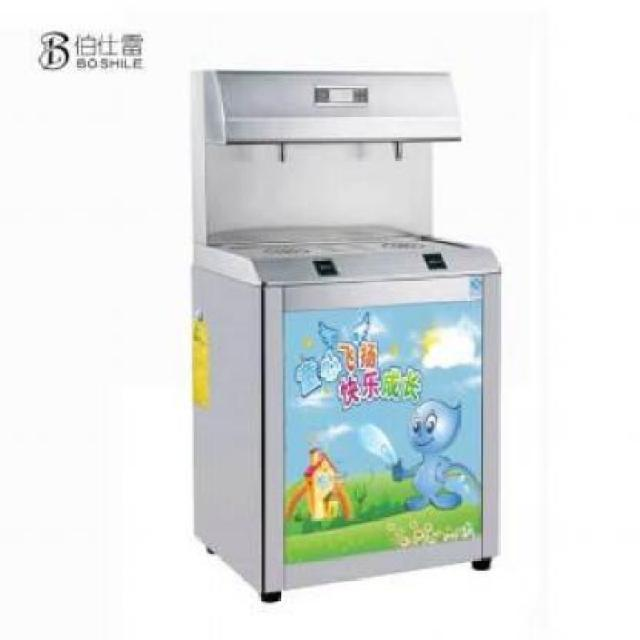cooler: (183, 62, 507, 608)
